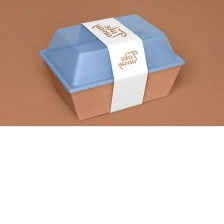plastic_box: (32, 7, 190, 126)
